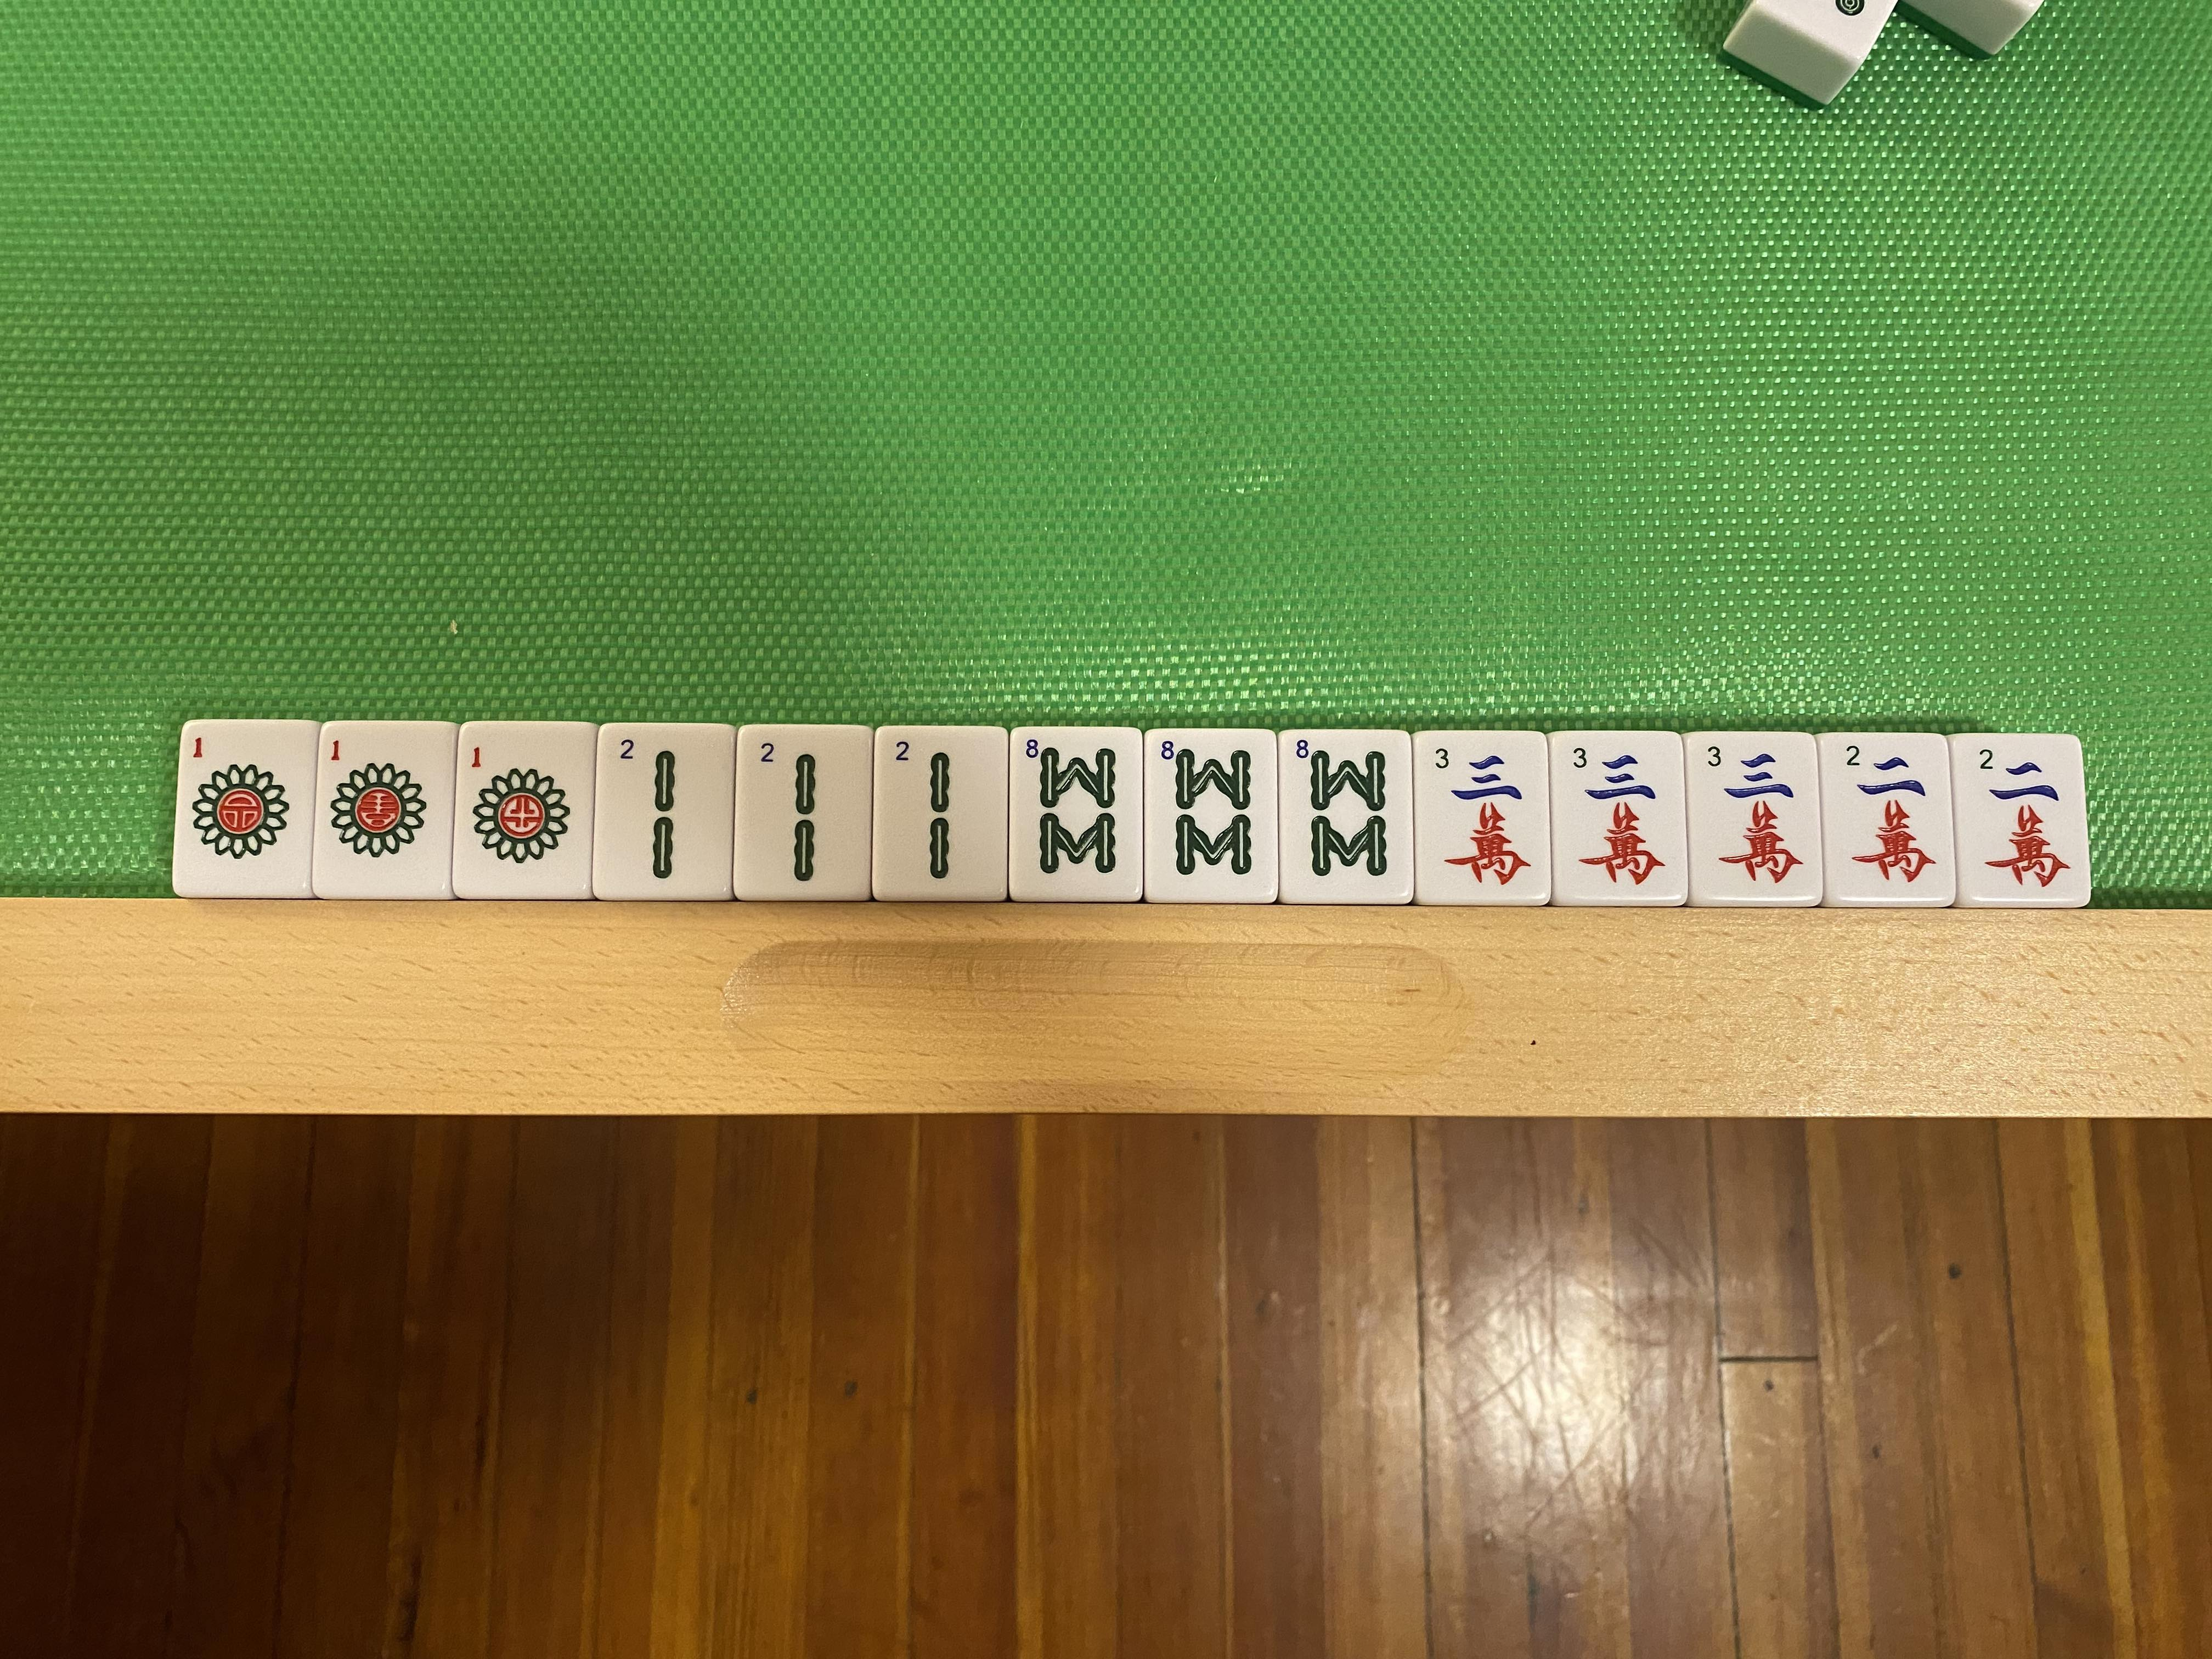bamboo-eight: (1012, 730, 1139, 899), (1284, 734, 1411, 899), (1148, 734, 1271, 899)
bamboo-two: (597, 727, 732, 897), (737, 725, 869, 897), (874, 730, 1001, 896)
character-three: (1418, 734, 1548, 904), (1555, 734, 1677, 901), (1691, 739, 1811, 901)
character-two: (1961, 739, 2085, 897), (1825, 737, 1944, 903)
circle-one: (456, 723, 590, 896), (315, 732, 449, 889), (183, 721, 305, 894)
